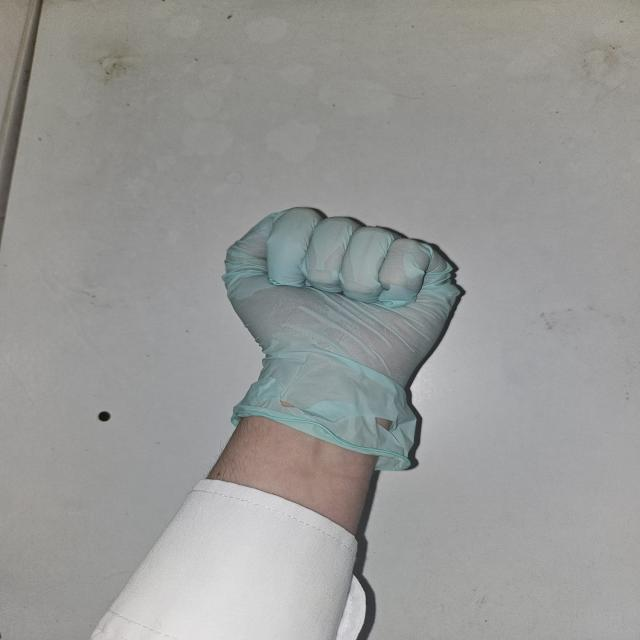gloves_damaged: (221, 206, 466, 471)
